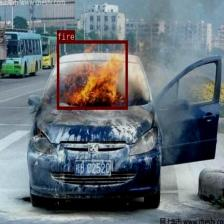fire: (57, 40, 127, 109)
